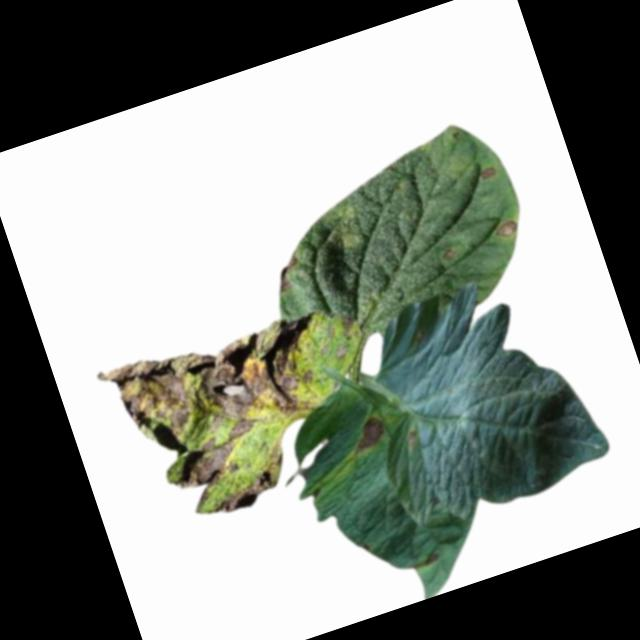Early_blight: (95, 302, 346, 503), (204, 463, 290, 522), (269, 251, 308, 294), (351, 414, 391, 451), (491, 216, 523, 240), (337, 313, 362, 340), (476, 163, 500, 181), (422, 549, 441, 567), (405, 427, 421, 446)
